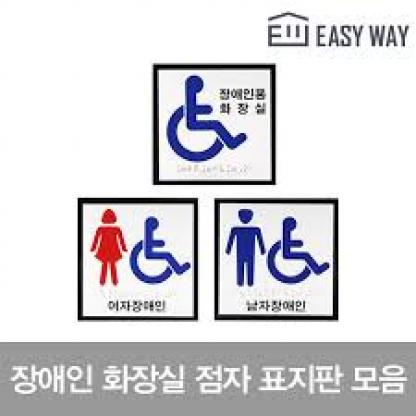toilet: (225, 202, 331, 293), (91, 207, 189, 292)
